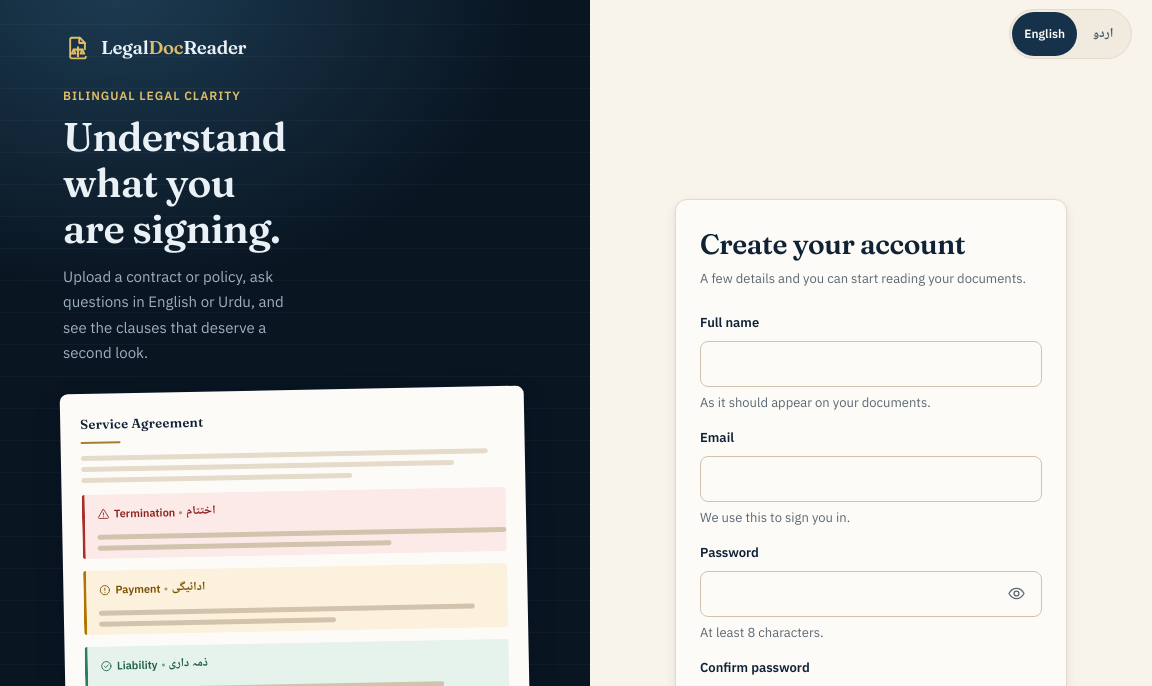
SignUp form › maps a 422 onto the field it belongs to, never showing the raw message
The width and height of the screenshot is (1152, 686).
In the field labelled "Full name": (871, 364) [700, 341, 1042, 387], type "Ayesha Khan"
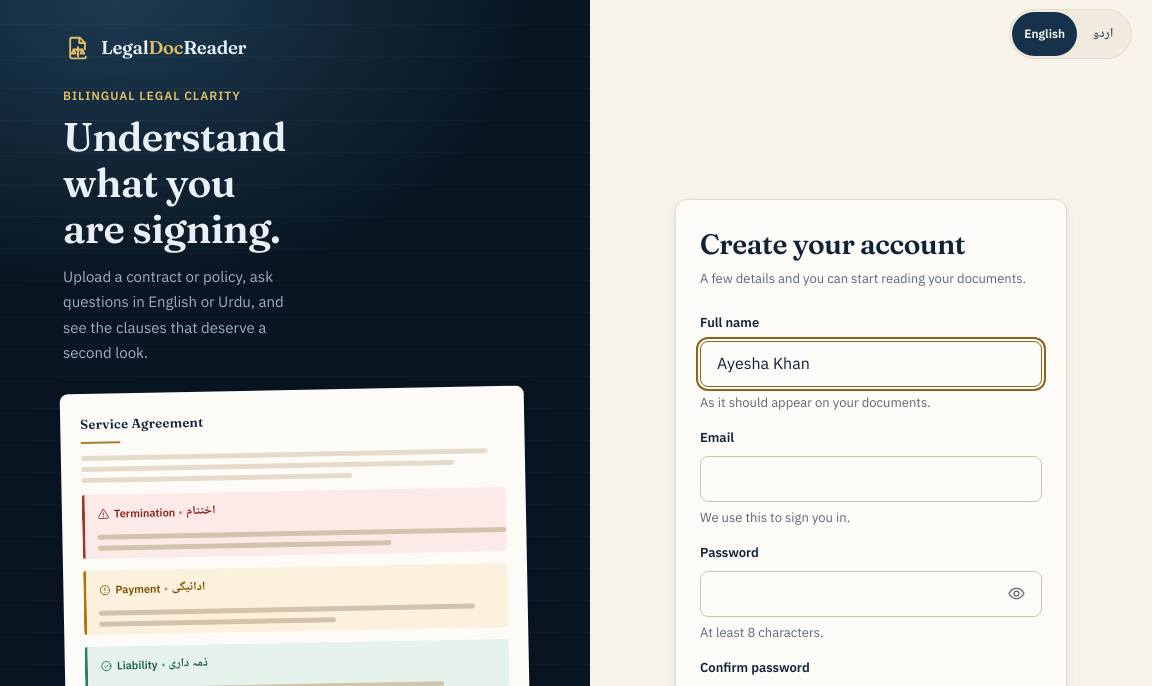
In the field labelled "Email": (871, 479) [700, 456, 1042, 502], type "ayesha@example.com"
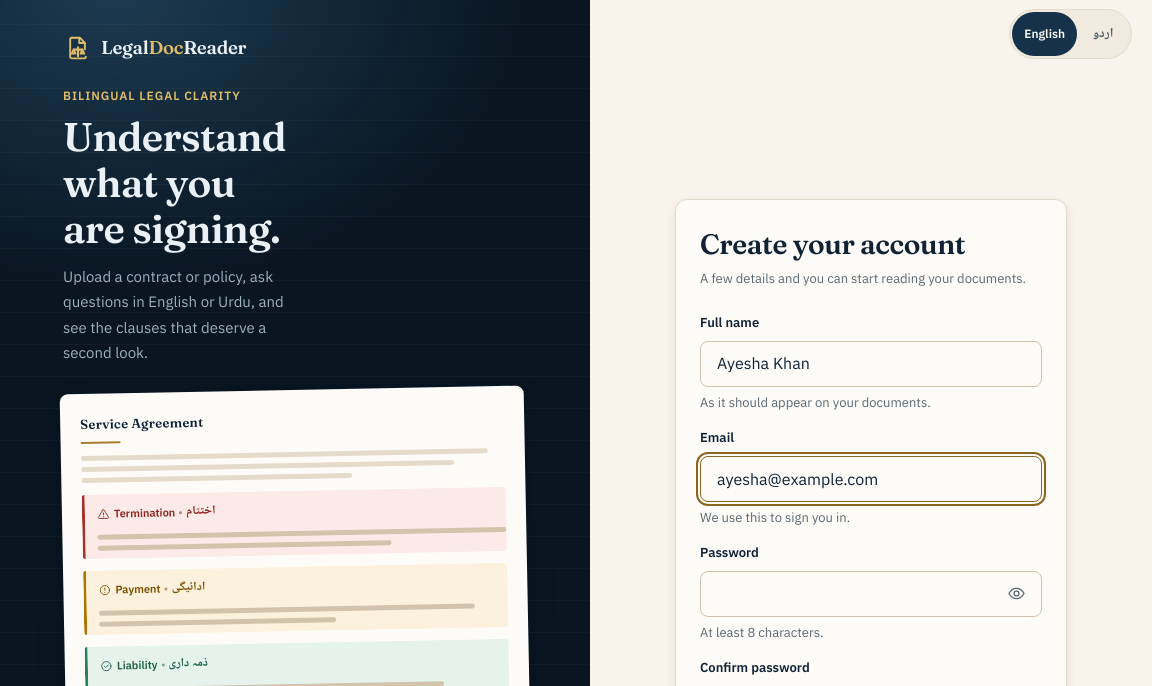
In the password field with id "signup-password": (871, 594) [700, 571, 1042, 617], type "S3cure-pass!"
(page scrolled)
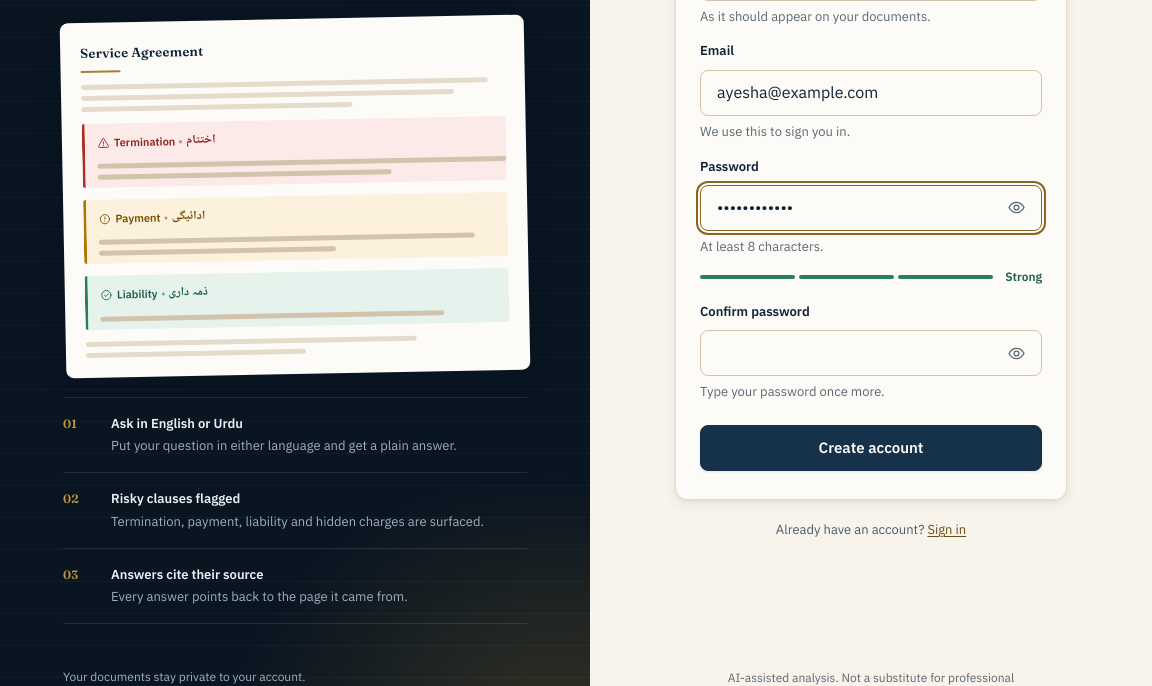
In the password field with id "signup-confirm-password": (871, 353) [700, 330, 1042, 376], type "S3cure-pass!"
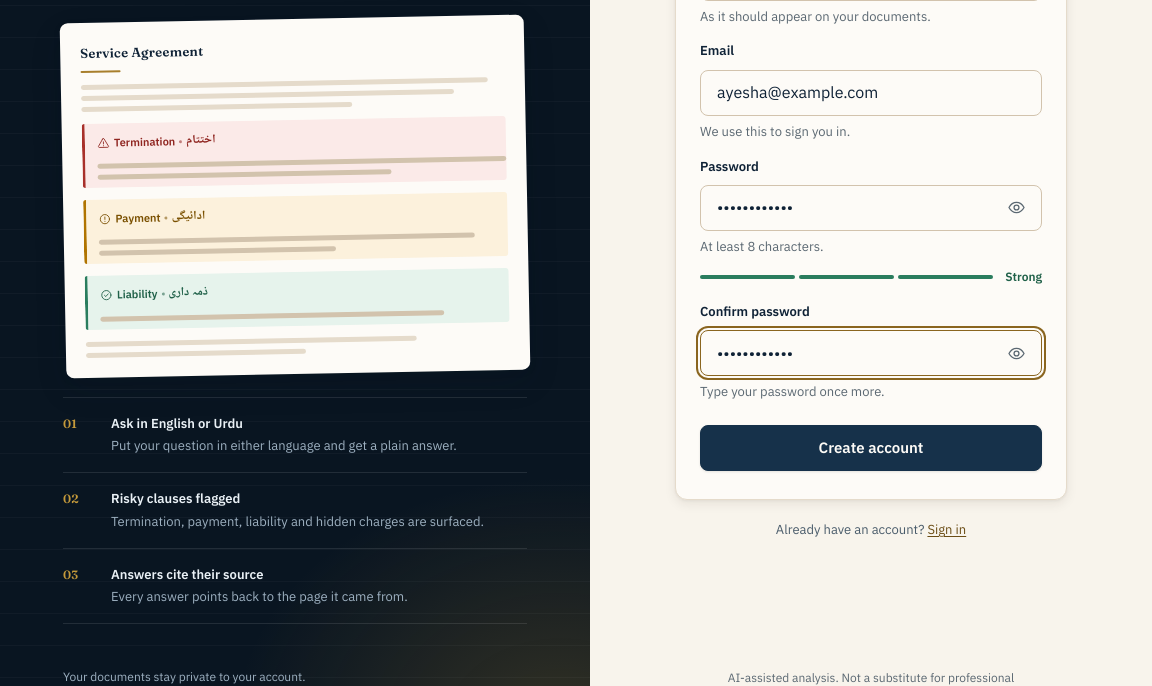
Click the button "Create account": click(871, 448) [700, 425, 1042, 471]
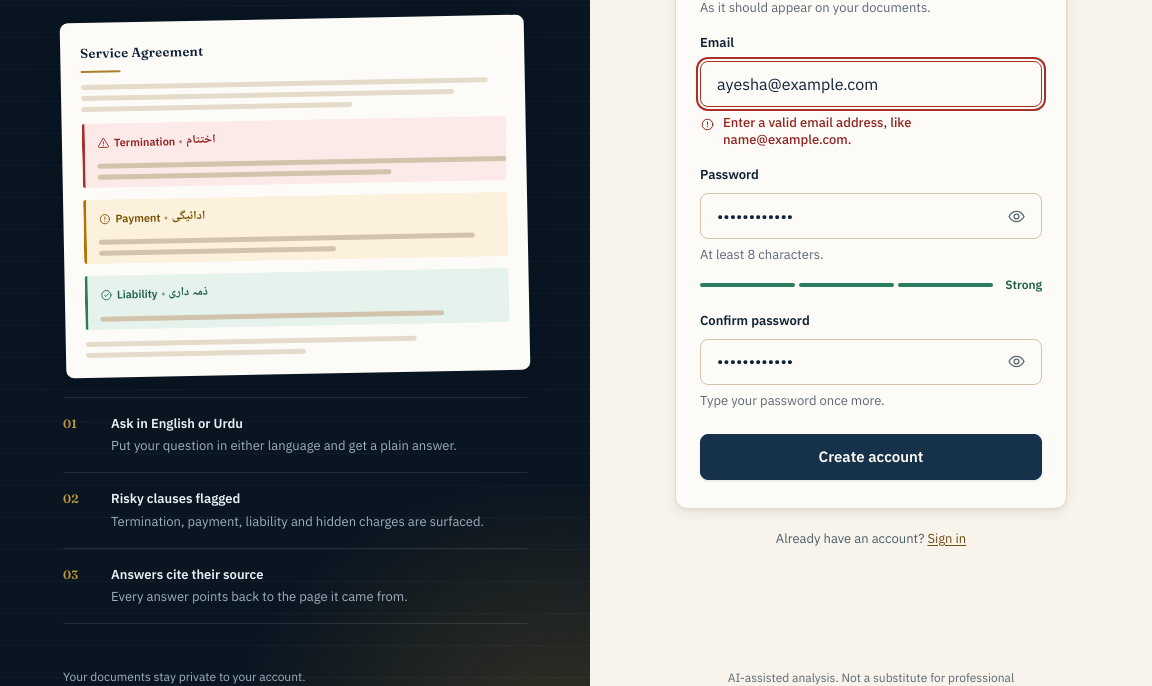
Expected: the text "Enter a valid email address, like name@example.com." is shown, [723, 114, 911, 148]
